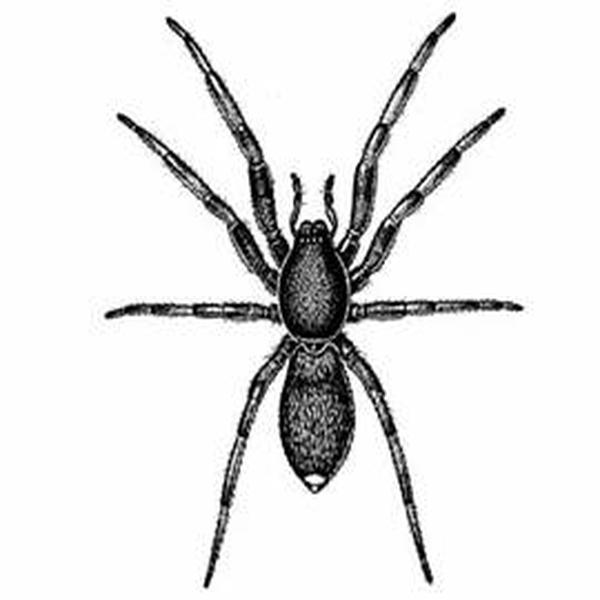White-Tailed_Spider: (106, 13, 524, 586)
